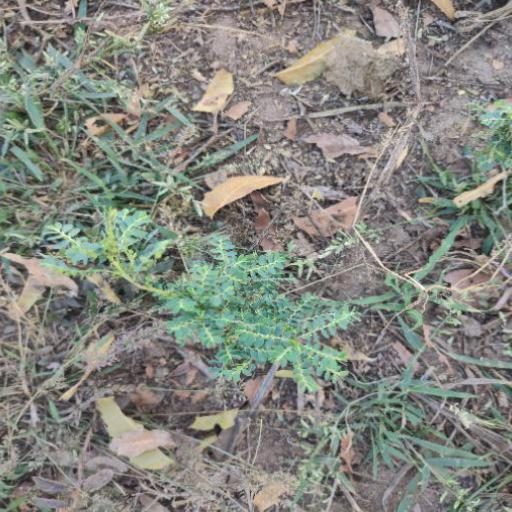weed: (57, 178, 459, 489)
